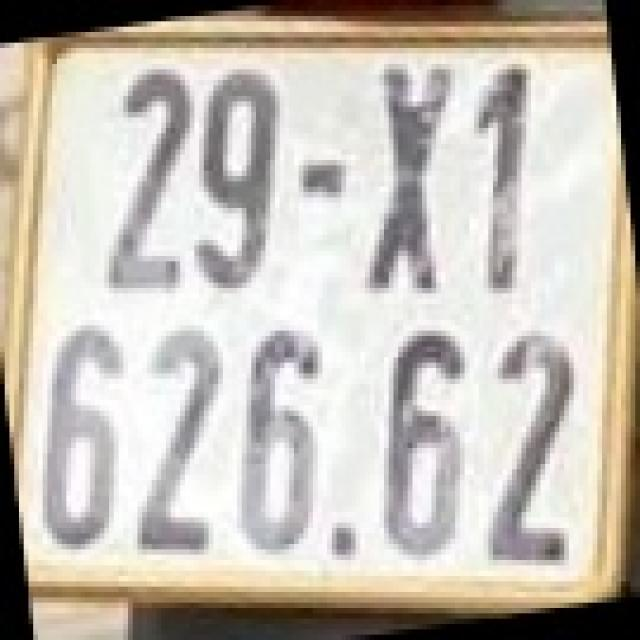1: (469, 59, 536, 294)
2: (488, 326, 578, 566), (104, 70, 190, 294), (138, 325, 218, 555)
6: (380, 325, 470, 555), (236, 325, 322, 555), (38, 320, 124, 550)
9: (194, 69, 280, 288)
X: (364, 59, 450, 294)
